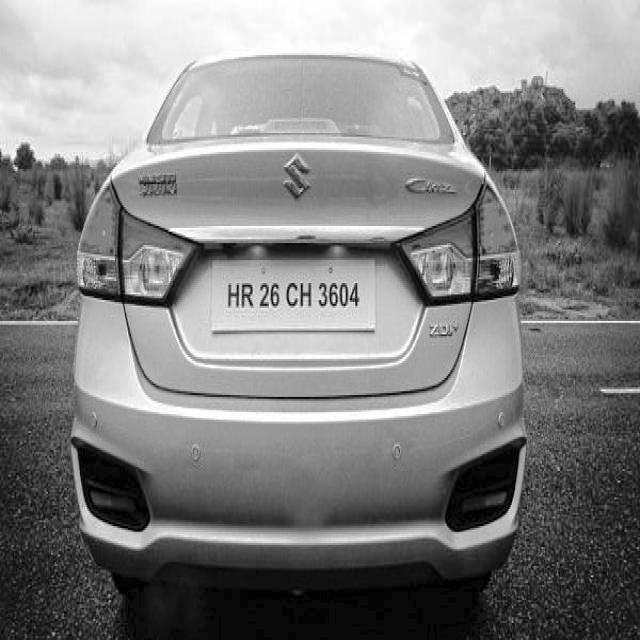Car: (68, 54, 530, 632)
